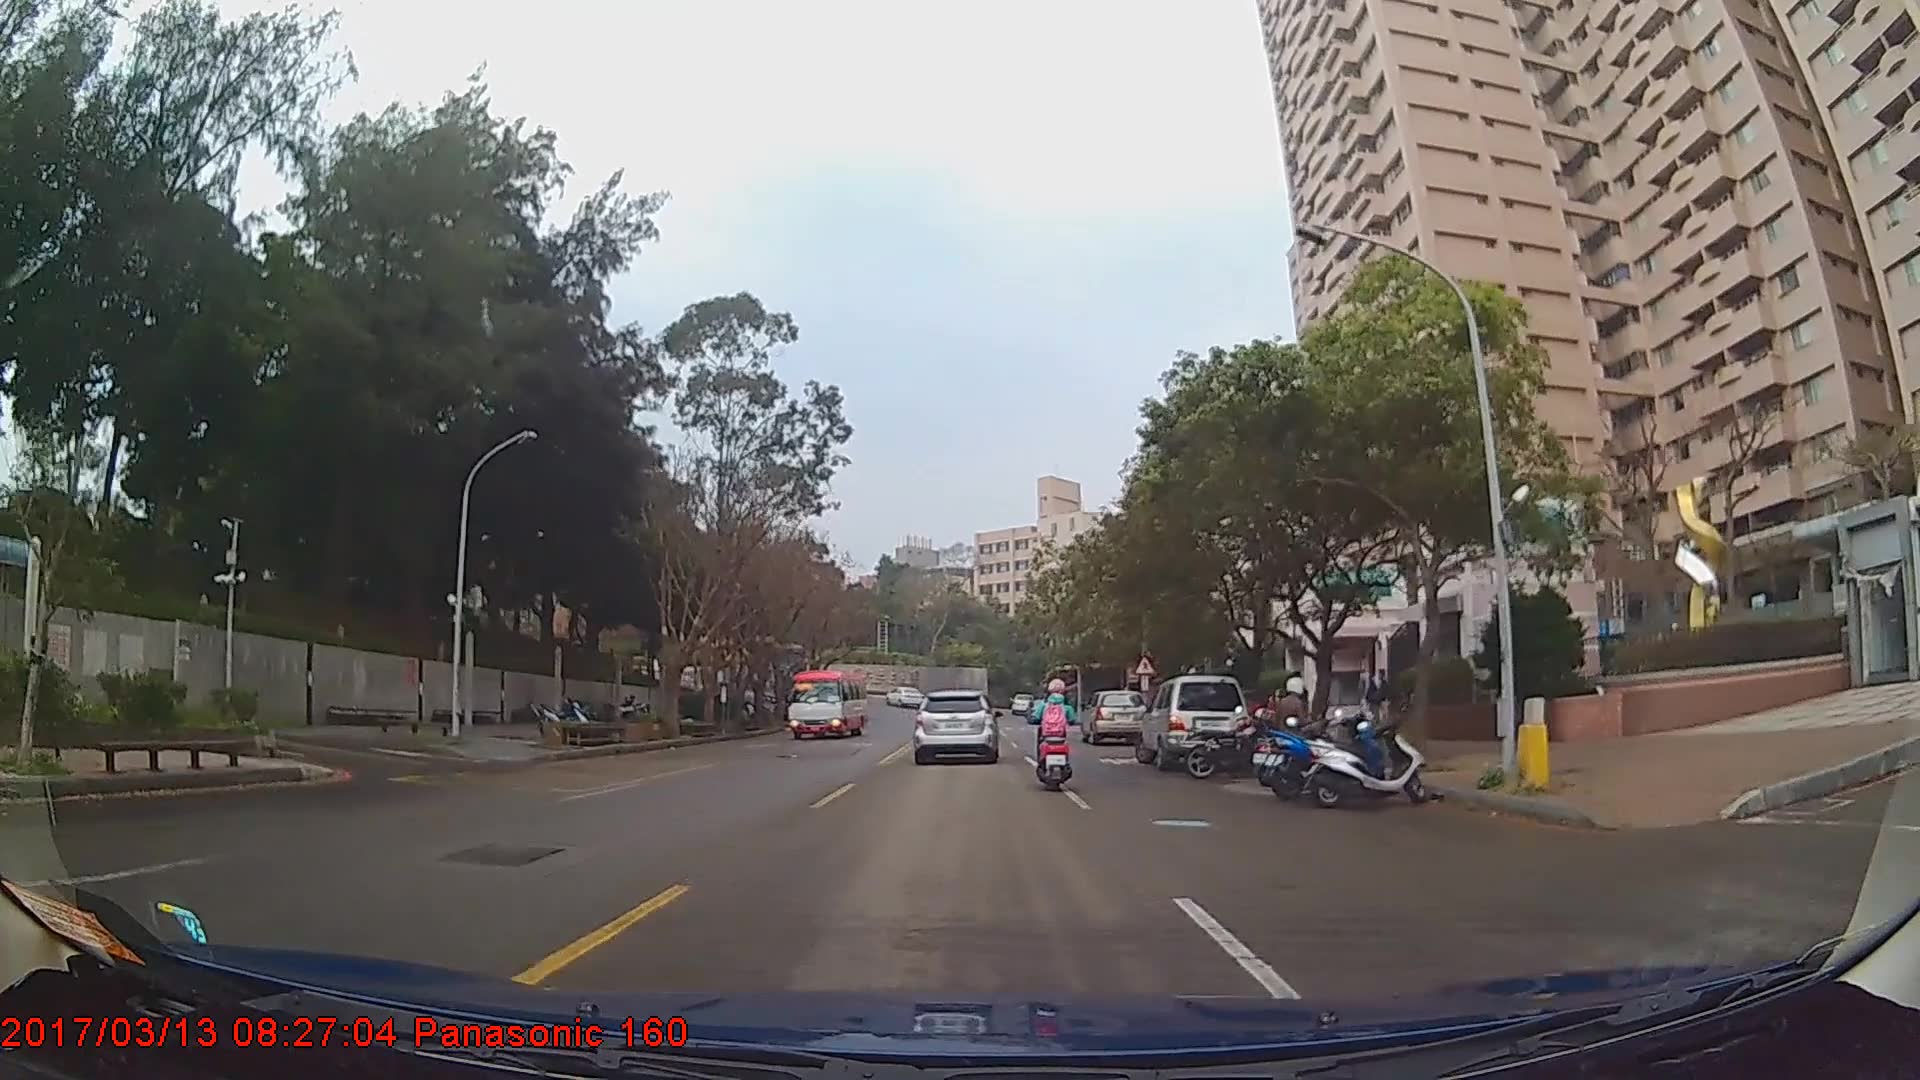rider: (1261, 671, 1322, 779), (1033, 671, 1085, 794)
vehicle: (1133, 674, 1248, 772), (911, 688, 997, 764), (785, 667, 867, 735), (1081, 689, 1146, 744), (881, 684, 926, 708)
